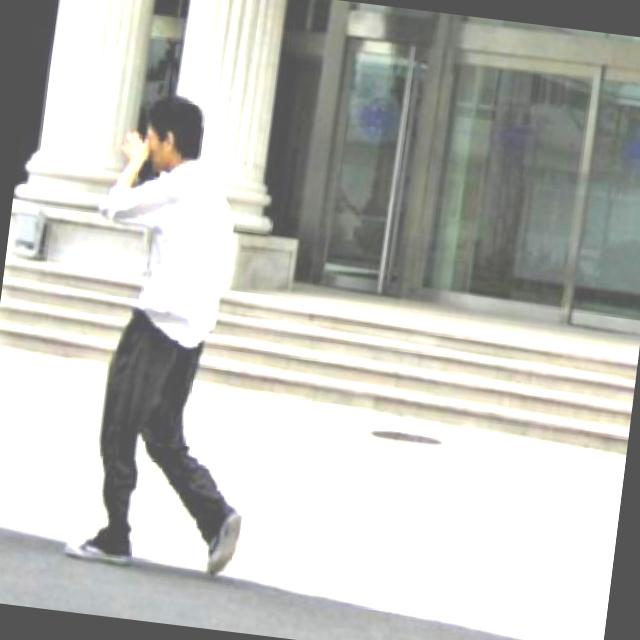Person: (57, 78, 298, 584)
